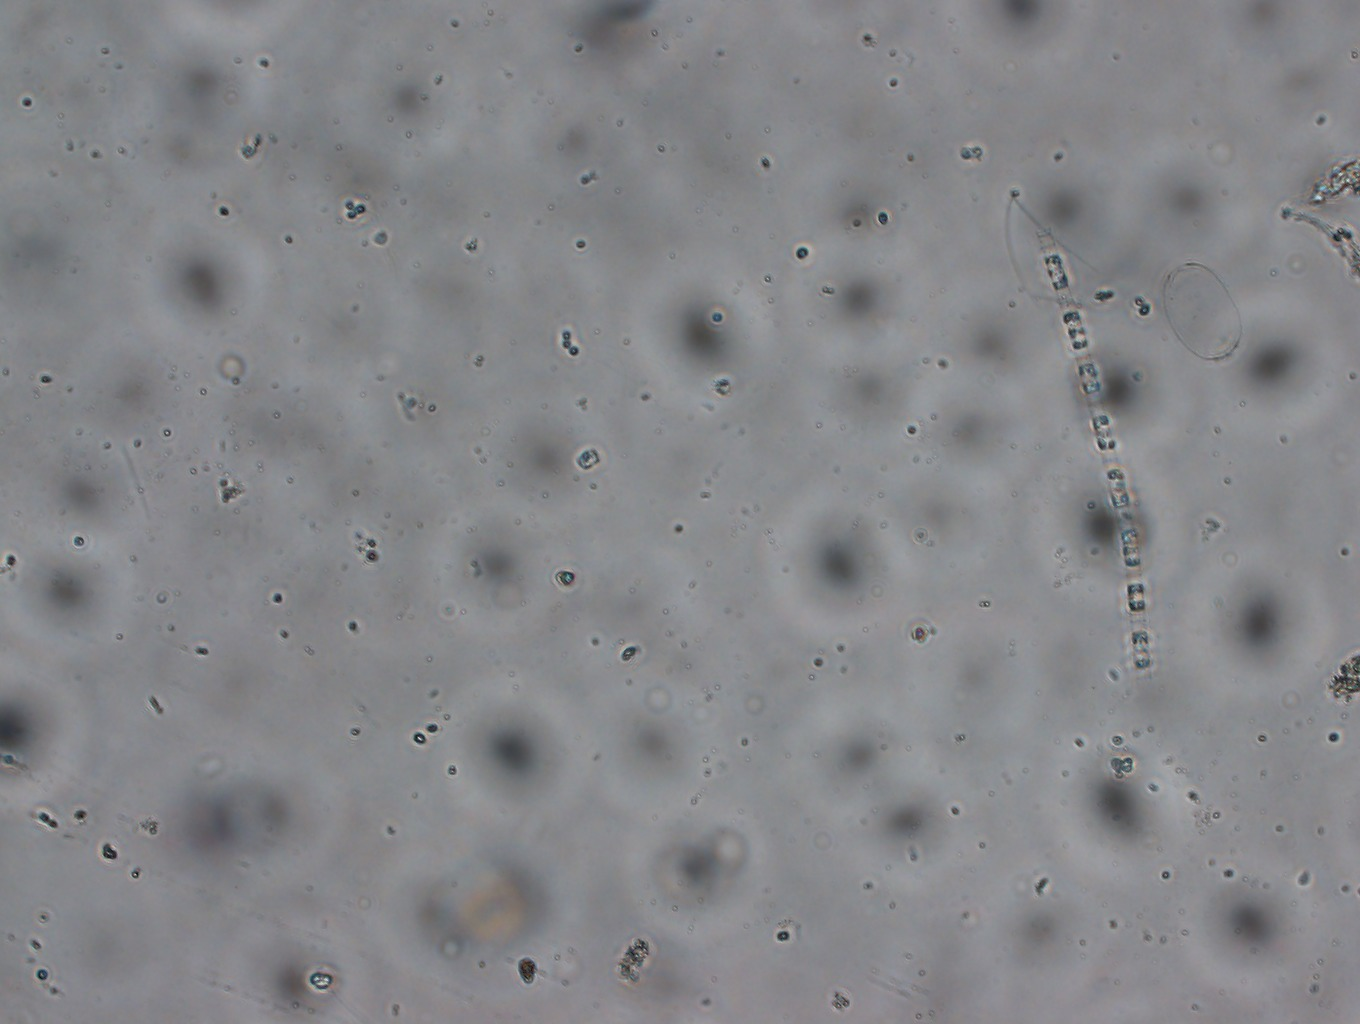bacteriastrum: (1035, 245, 1169, 680)
